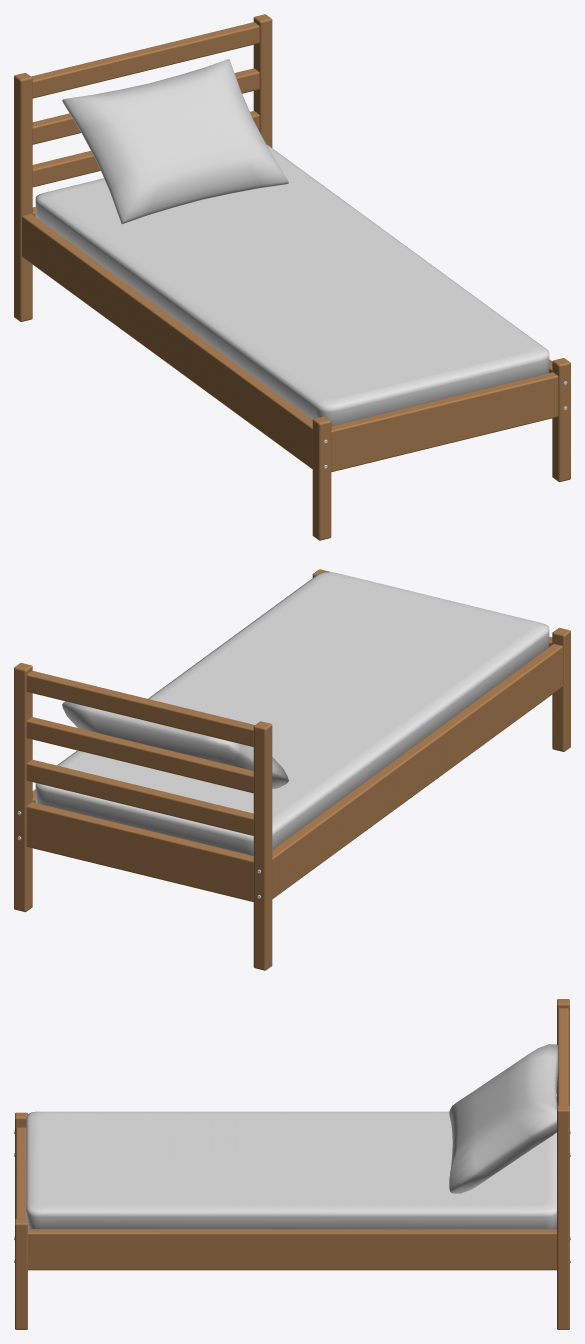
The model's file is bed-wood-single.glb.
The picture shows the model from 3 angles, top to bottom: view 1: azimuth 30°, elevation 25°; view 2: azimuth 150°, elevation 25°; view 3: azimuth 270°, elevation 25°; orthographic projection. The views are drawn at different scales.
Parts seen in each view (by area): view 1: Object_3, Object_2, Object_4; view 2: Object_3, Object_2, Object_4; view 3: Object_3, Object_2, Object_4.
Part boxes in pixels (x1,y1,x2,y2): Object_3: (35, 144, 549, 425); Object_2: (14, 14, 570, 540); Object_4: (62, 59, 288, 224); Object_3: (35, 572, 549, 855); Object_2: (14, 569, 570, 970); Object_4: (62, 701, 288, 788); Object_3: (26, 1111, 556, 1228); Object_2: (14, 999, 570, 1329); Object_4: (449, 1044, 558, 1193).
Bounding box in the file's own units: 1 × 0.9185 × 2.11.
3 materials, 3 textured.
